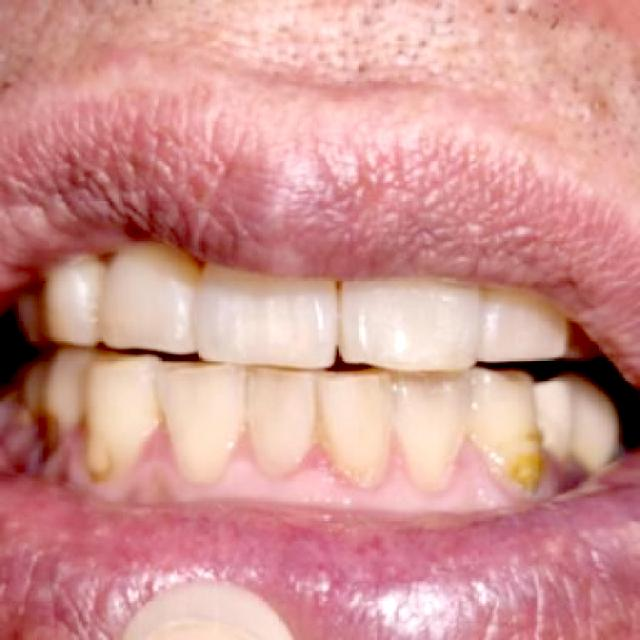Plaque: (488, 424, 559, 499)
